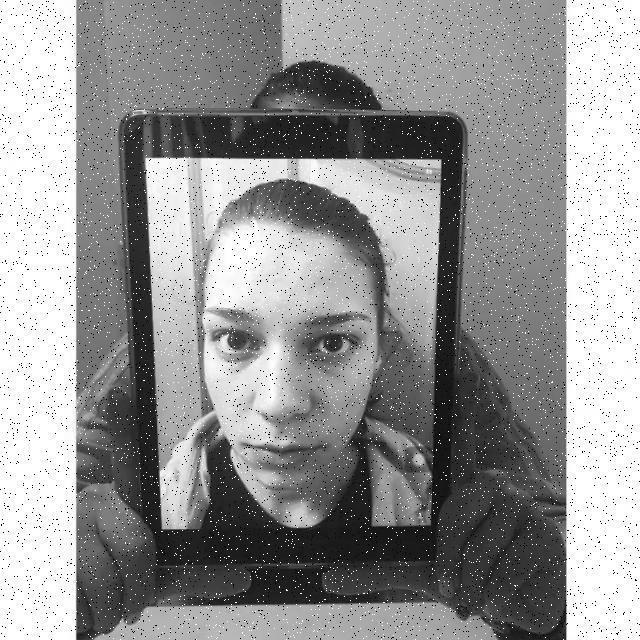fake: (113, 105, 478, 584)
